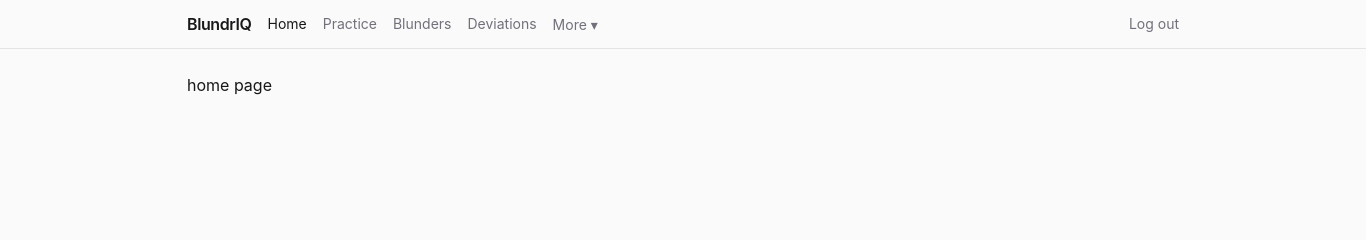
Layout navigation › shows the primary links inline and the rest only once More is opened
The image size is (1366, 240).
Expected: the link "Home" is shown, top-left (268, 14), bottom-right (307, 34)
Expected: the link "Practice" is shown, top-left (323, 14), bottom-right (377, 34)
Click the button "More ▾".
click(575, 25)  # box top-left (553, 15), bottom-right (598, 35)
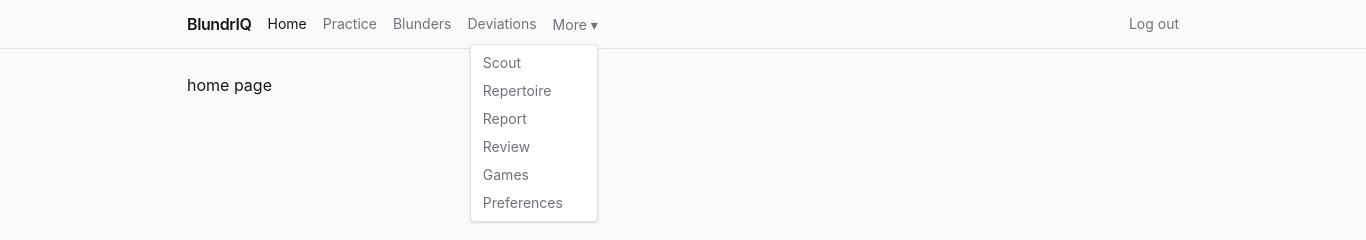
Expected: the menu items read "Scout", "Repertoire", "Report", "Review", "Games", "Preferences", in this order, top-left (483, 54), bottom-right (521, 71); top-left (483, 82), bottom-right (551, 99); top-left (483, 110), bottom-right (527, 127); top-left (483, 138), bottom-right (530, 155); top-left (483, 166), bottom-right (529, 183); top-left (483, 194), bottom-right (563, 211)
